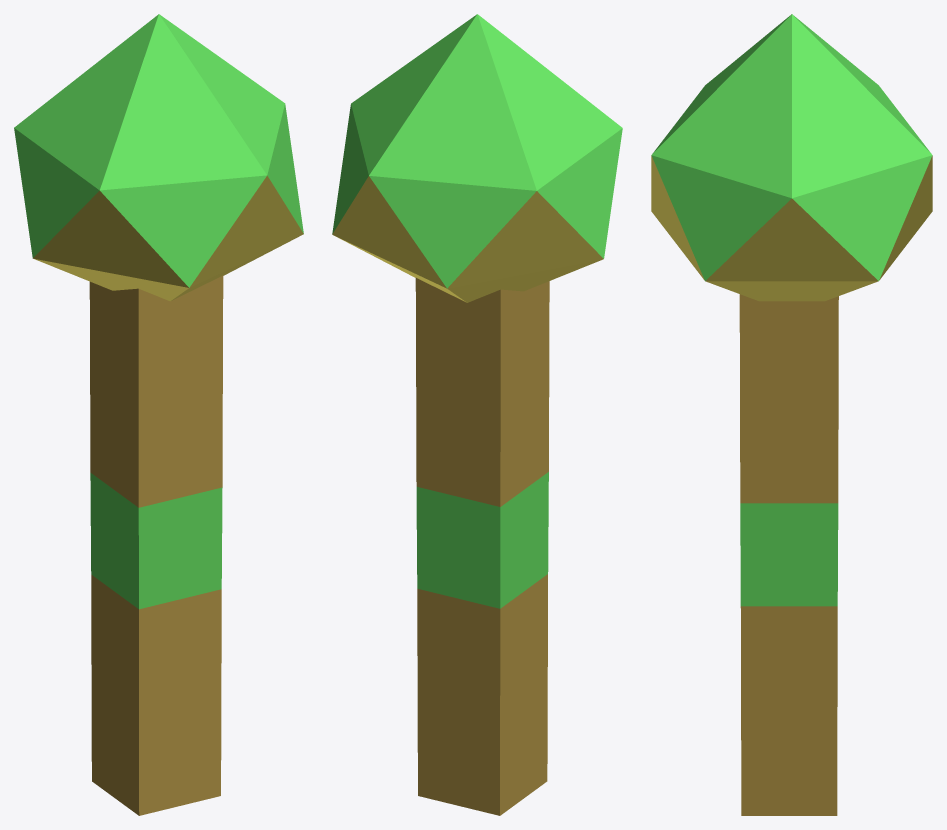
Rendered from Wand.fbx.
3 views of the same model, side by side, from view 1: azimuth 30°, elevation 25°; view 2: azimuth 150°, elevation 25°; view 3: azimuth 270°, elevation 25° (orthographic).
Parts seen in each view (by area): view 1: Cube.013; view 2: Cube.013; view 3: Cube.013.
Part boxes in pixels (left/top/right/bottom): Cube.013: left=14, top=14, right=303, bottom=815; Cube.013: left=332, top=14, right=622, bottom=815; Cube.013: left=651, top=14, right=932, bottom=815.
Size of the model in its own units: 27.82 by 81.37 by 26.46.
